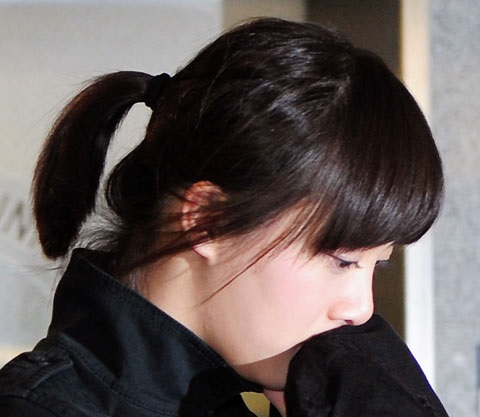face: (212, 162, 401, 394)
